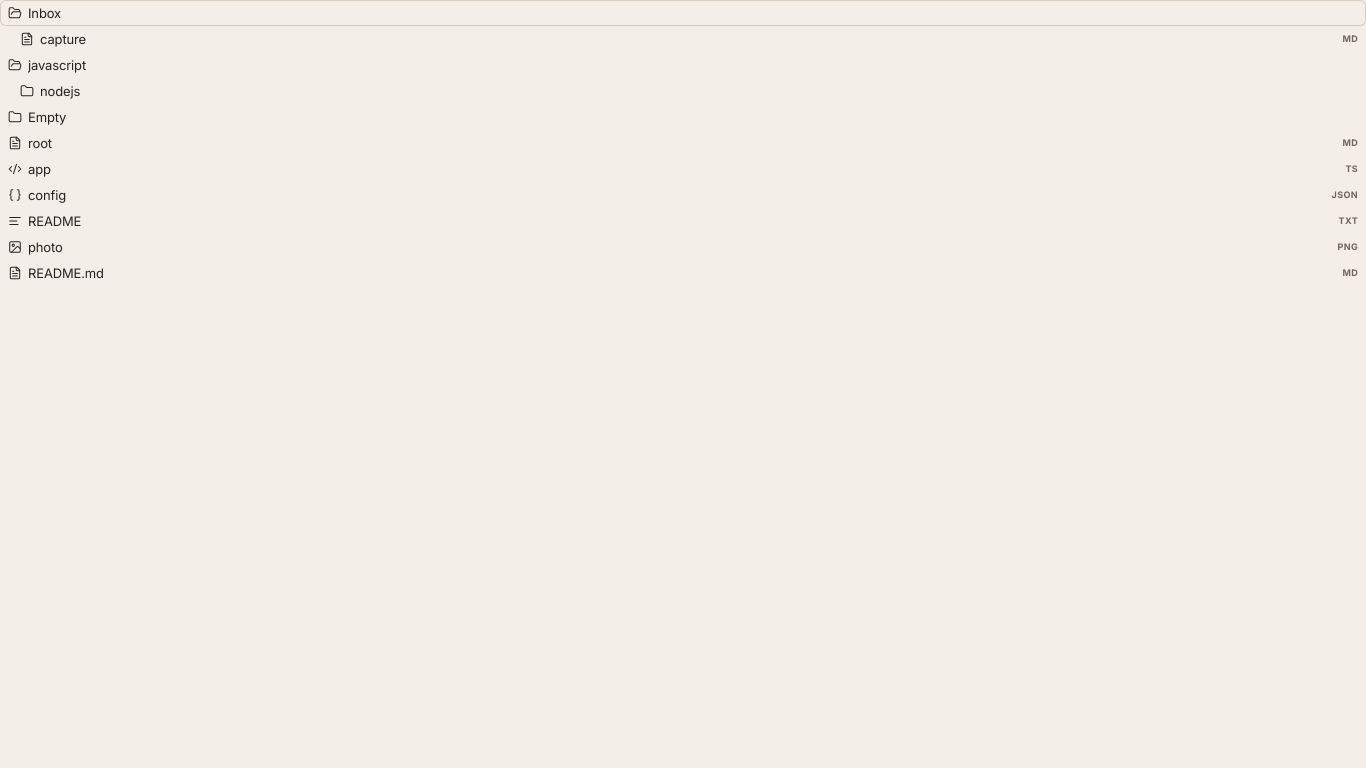
Test: FileTree navigation modes › offers only valid Archive and Trash actions by item kind
The width and height of the screenshot is (1366, 768).
Step 1. Right-click the list item with aria-label "root.md" → (15, 143), box [0, 130, 1365, 156]
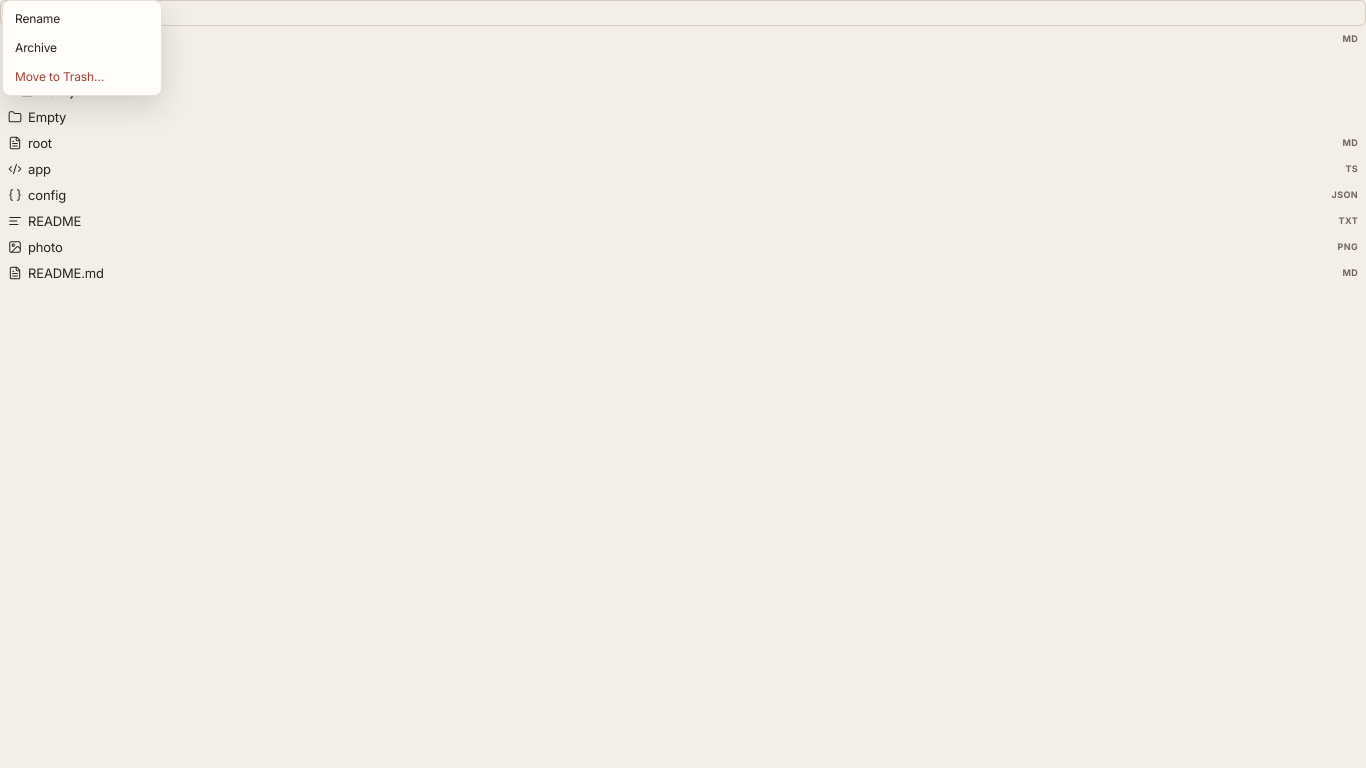
Expected: the menu item "Rename" is shown, [15, 11, 60, 26]
Expected: the menu item "Archive" is shown, [15, 40, 57, 55]
Expected: the menu item "Move to Trash…" is shown, [15, 69, 104, 84]
Step 2. Press Escape
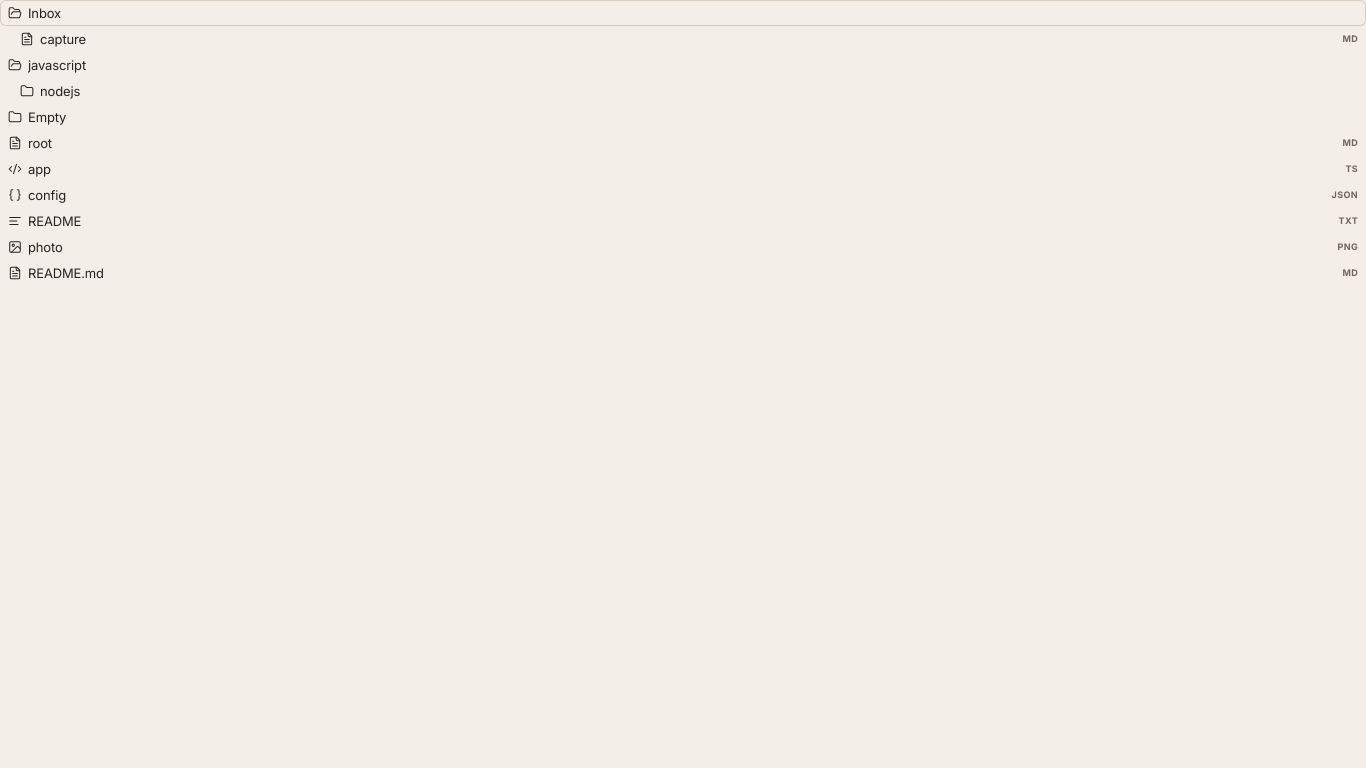
Step 3. Right-click the list item "Inbox" → (683, 13), box [0, 0, 1365, 26]
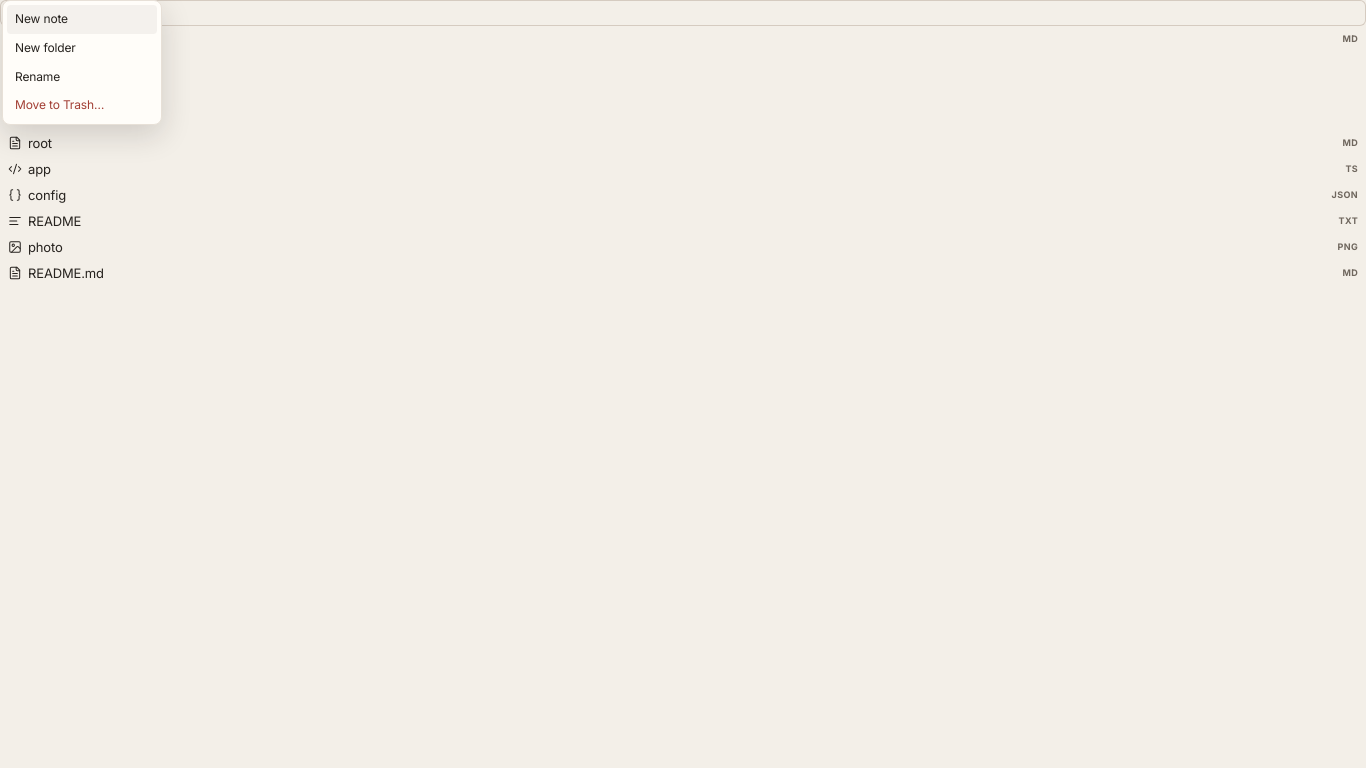
Expected: the menu item "Archive" is not shown
Expected: the menu item "New note" is shown, [7, 5, 157, 34]
Expected: the menu item "New folder" is shown, [15, 40, 76, 55]
